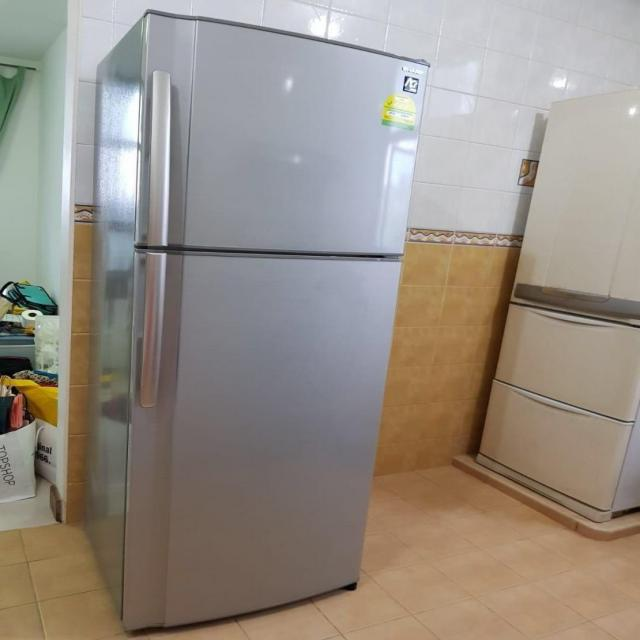refrigerator: (121, 8, 430, 630)
